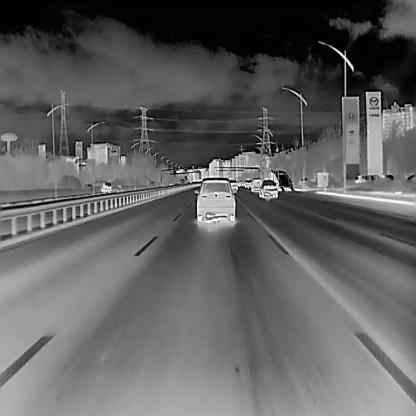car: (193, 176, 236, 223), (258, 177, 278, 198), (353, 172, 380, 184), (250, 176, 262, 192), (296, 176, 310, 186), (243, 177, 253, 188), (228, 178, 237, 190)
truck: (266, 168, 294, 192), (99, 180, 111, 192)
